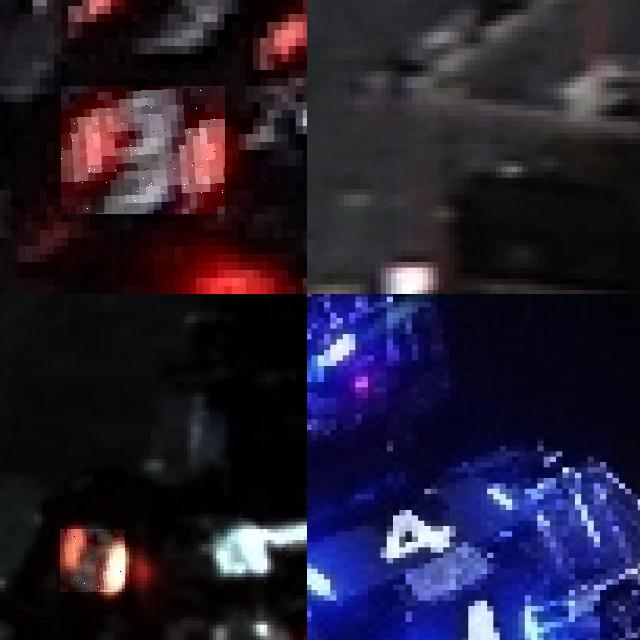B4: (307, 478, 512, 590), (405, 589, 543, 640)
R3: (61, 86, 225, 214)
Rs: (60, 529, 125, 592)
